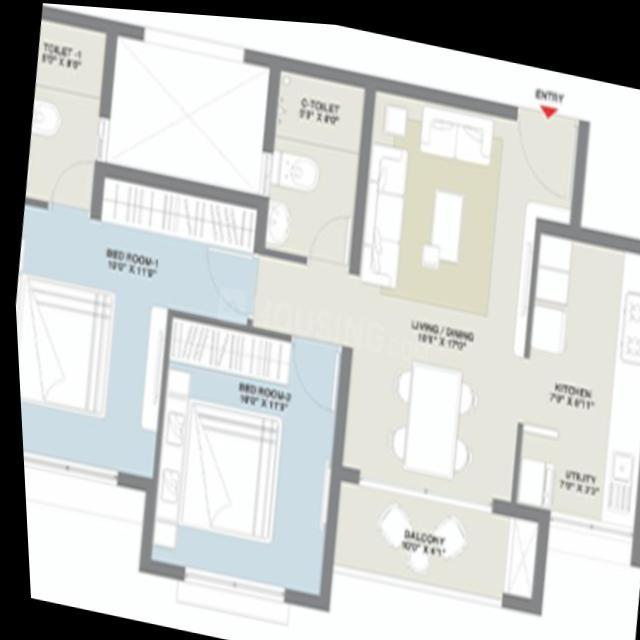Balcony-Sitout: (320, 460, 546, 610)
Bedroom: (138, 305, 350, 607), (12, 201, 176, 494)
Dining: (383, 347, 473, 477)
Enterance-Foyer: (507, 64, 583, 189)
Kitchen: (500, 208, 640, 560)
Living: (350, 71, 519, 310)
Toilet: (248, 51, 376, 271), (22, 2, 116, 213)
